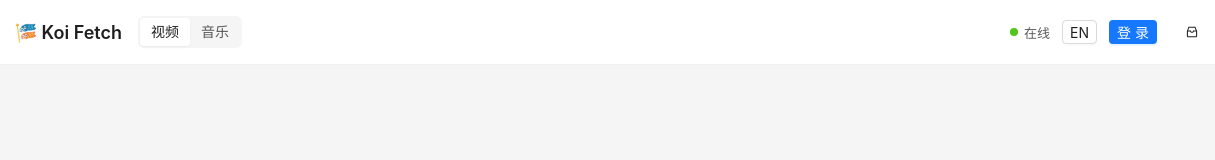
Test: AppHeader › toggles between Chinese and English
The width and height of the screenshot is (1215, 160).
Expected: the text "在线" is shown, left=1010, top=22, right=1050, bottom=42
Step 1. Click the button with test id "language-toggle" → (1080, 32), box left=1062, top=20, right=1097, bottom=44
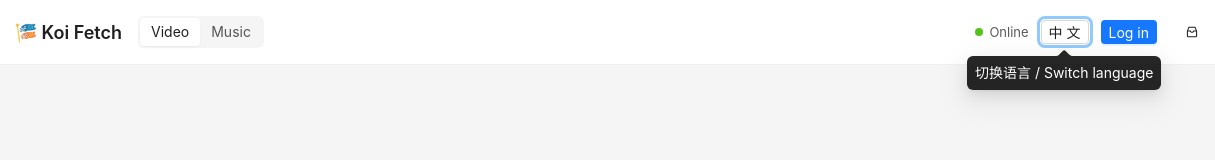
Expected: the text "Online" is shown, left=975, top=24, right=1029, bottom=40
Now the text "Log in" is shown, box left=1108, top=24, right=1149, bottom=40
Step 2. Click the button with test id "language-toggle" → (1065, 32), box left=1041, top=20, right=1088, bottom=44
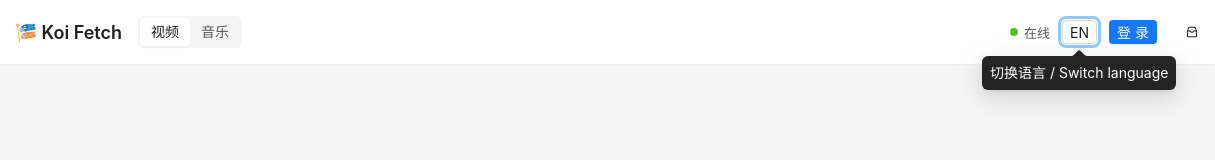
Now the text "在线" is shown, box left=1010, top=22, right=1050, bottom=42
